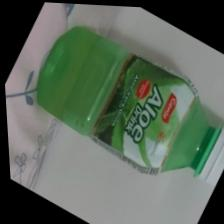plastic: (6, 3, 223, 223)
